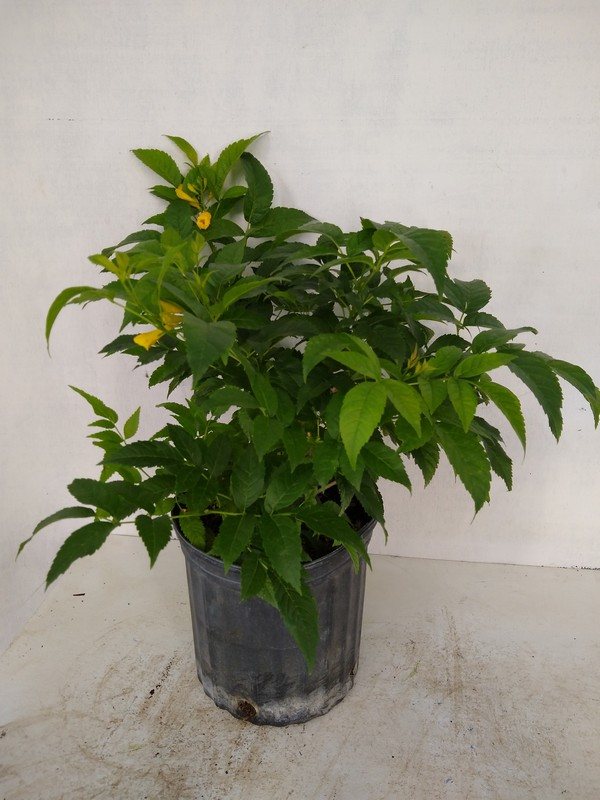plant: (18, 130, 600, 592)
pot: (169, 506, 382, 732)
